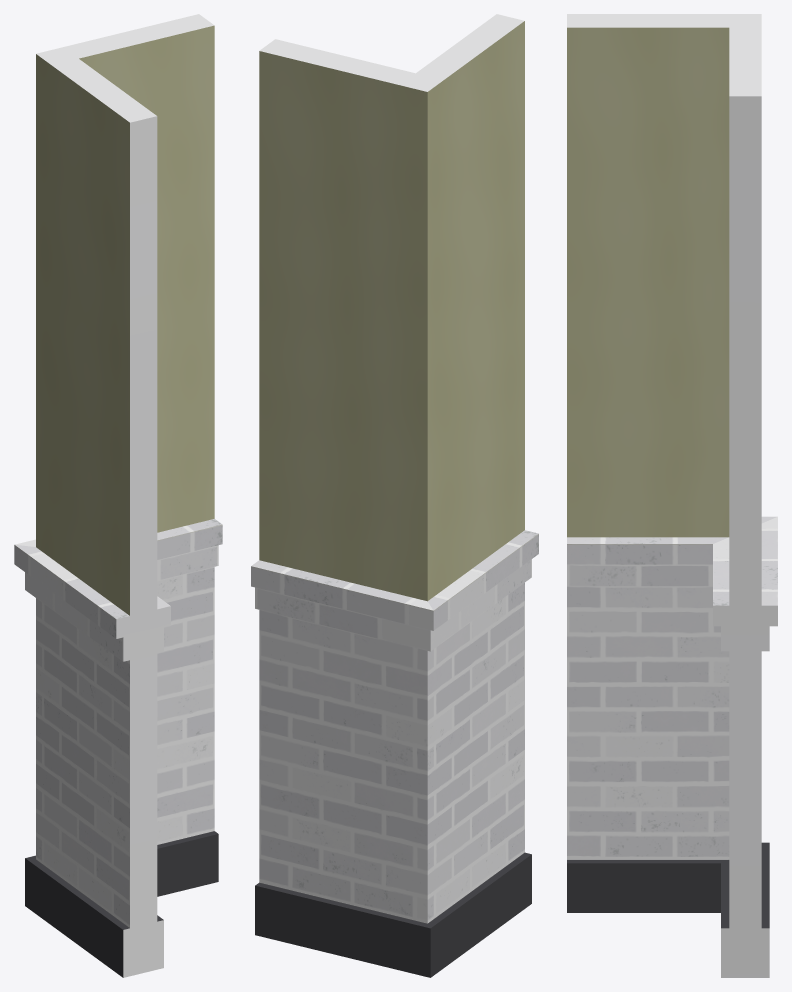
The model's file is SM_Buildings_Wall_CornerIn_01_TileBack.fbx.
The picture shows the model from 3 angles, left to right: view 1: azimuth 30°, elevation 25°; view 2: azimuth 150°, elevation 25°; view 3: azimuth 270°, elevation 25°; orthographic projection. The views are drawn at different scales.
Visible parts, largest first — view 1: SM_Buildings_Wall_CornerIn_01_TileBack; view 2: SM_Buildings_Wall_CornerIn_01_TileBack; view 3: SM_Buildings_Wall_CornerIn_01_TileBack.
Boxes of the visible parts, x1,y1,x2,y2 form: SM_Buildings_Wall_CornerIn_01_TileBack: (14, 14, 222, 977); SM_Buildings_Wall_CornerIn_01_TileBack: (251, 14, 538, 977); SM_Buildings_Wall_CornerIn_01_TileBack: (567, 14, 777, 977).
Bounding box in the file's own units: 65 × 300 × 65.
Materials: 1 (1 with a texture image).
